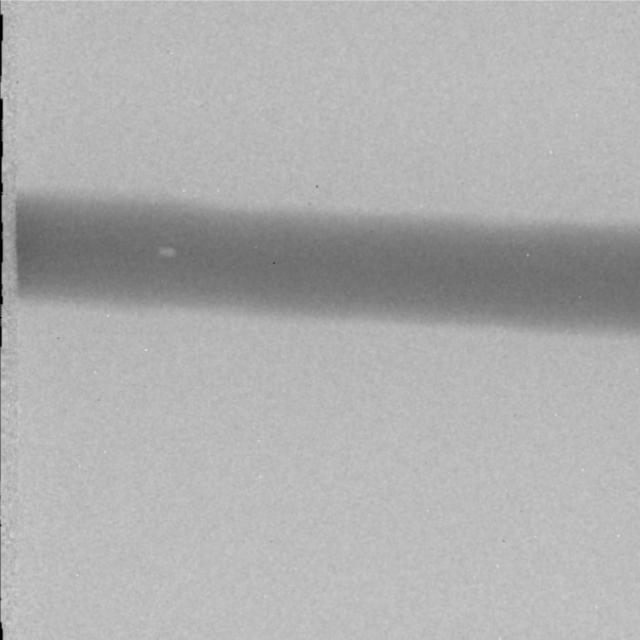air hole: (156, 245, 178, 259)
